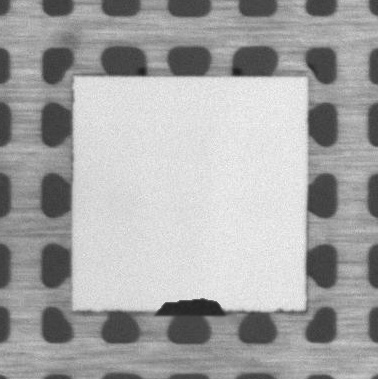DIE_BROKEN: (153, 297, 226, 316)
